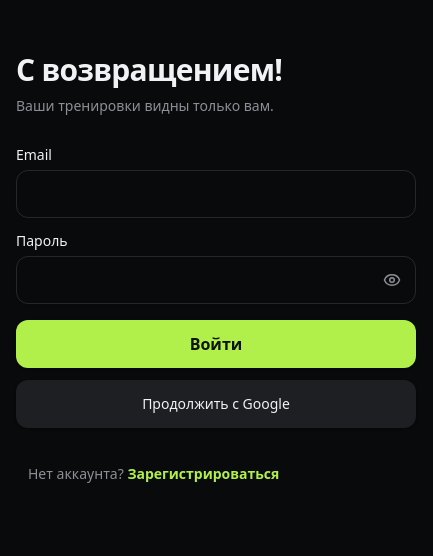
Test: highlights only the registration action with the primary theme color
The image size is (433, 556).
Click the button "Нет аккаунта? Зарегистрироваться".
click(216, 474)  # box [16, 452, 416, 496]
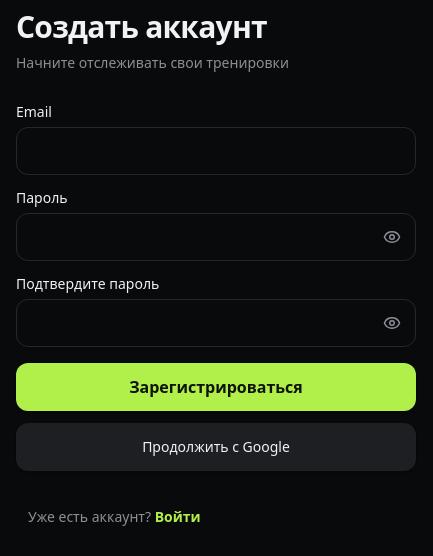
Now the button "Уже есть аккаунт? Войти" is shown, box [16, 495, 416, 539]
